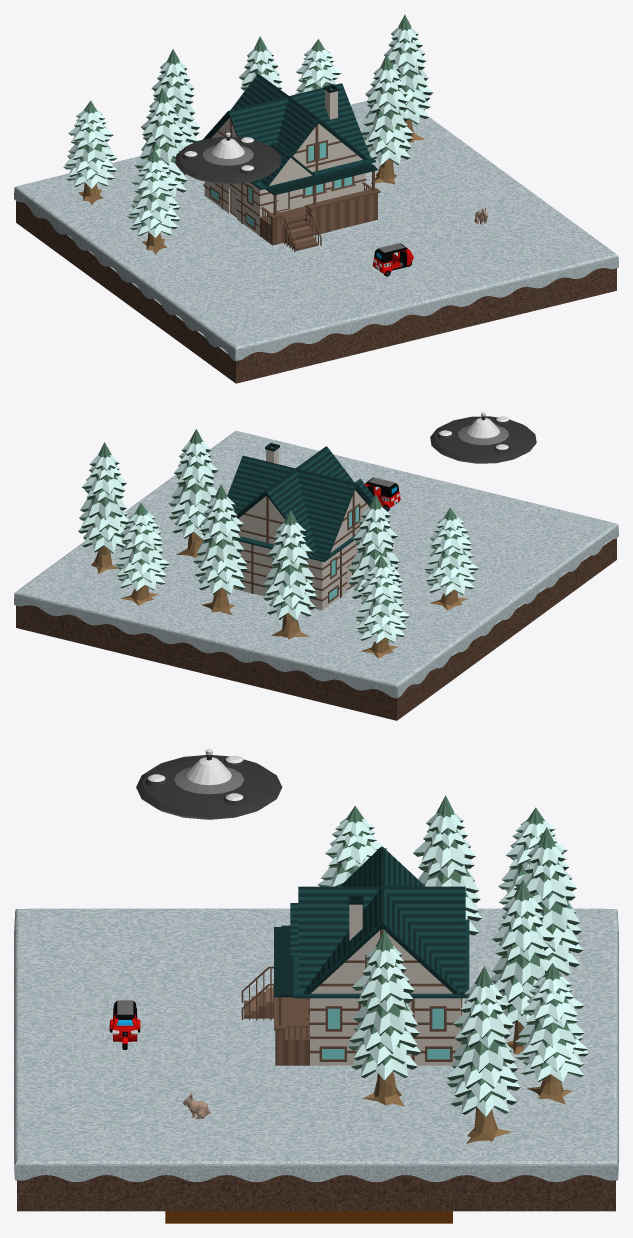
3 renders of one model, top to bottom at view 1: azimuth 30°, elevation 25°; view 2: azimuth 150°, elevation 25°; view 3: azimuth 270°, elevation 25°, orthographic. The views are drawn at different scales.
Visible parts, largest first — view 1: Cube.003, Cube.793, OBJRANDOM_UFO, VEHICLES_TUC_TUC; view 2: Cube.003, Cube.793, OBJRANDOM_UFO, VEHICLES_TUC_TUC; view 3: Cube.003, Cube.793, OBJRANDOM_UFO, UNDERGROUND_ART_PIECE_VAN_GOGH, VEHICLES_TUC_TUC.
Boxes of the visible parts, box(x1,y1,x2,y2) form: Cube.003: box(14, 14, 618, 383); Cube.793: box(196, 74, 380, 251); OBJRANDOM_UFO: box(175, 132, 281, 184); VEHICLES_TUC_TUC: box(372, 243, 413, 276); Cube.003: box(14, 429, 618, 720); Cube.793: box(227, 443, 392, 610); OBJRANDOM_UFO: box(430, 412, 536, 463); VEHICLES_TUC_TUC: box(365, 477, 400, 508); Cube.003: box(14, 795, 618, 1211); Cube.793: box(241, 846, 469, 1065); OBJRANDOM_UFO: box(136, 749, 282, 819); UNDERGROUND_ART_PIECE_VAN_GOGH: box(165, 1211, 452, 1223); VEHICLES_TUC_TUC: box(109, 1000, 140, 1049).
Bounding box in the file's own units: 4040 × 2049 × 4040.
30 materials, 5 textured.
